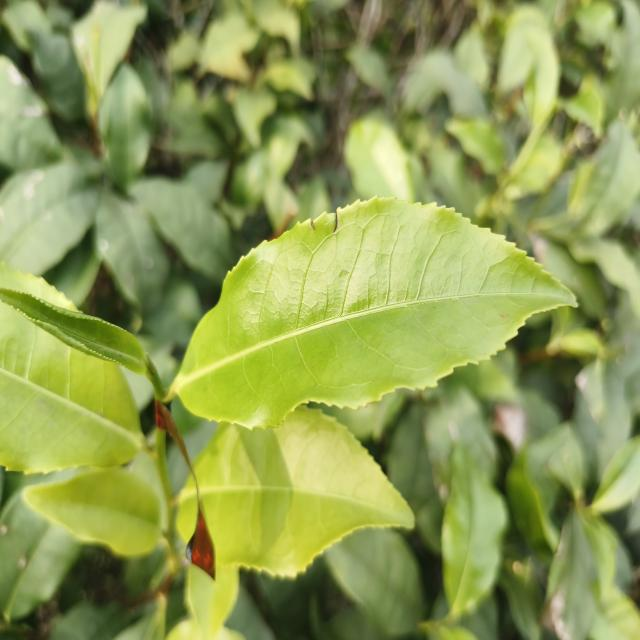Leaf: (173, 197, 575, 428), (194, 405, 414, 577), (0, 302, 143, 473), (0, 288, 148, 374), (25, 467, 161, 556), (0, 158, 101, 276), (441, 444, 507, 617), (129, 177, 231, 281), (326, 528, 423, 637), (0, 490, 80, 620), (95, 188, 169, 310), (72, 0, 147, 115), (0, 55, 60, 171), (580, 120, 640, 235), (98, 64, 151, 191), (344, 115, 416, 202), (547, 510, 595, 640), (387, 404, 439, 516), (31, 32, 85, 121), (186, 564, 239, 640), (591, 436, 640, 513), (0, 264, 76, 311), (445, 118, 504, 174), (559, 76, 604, 137), (232, 87, 277, 147), (177, 477, 197, 541)
